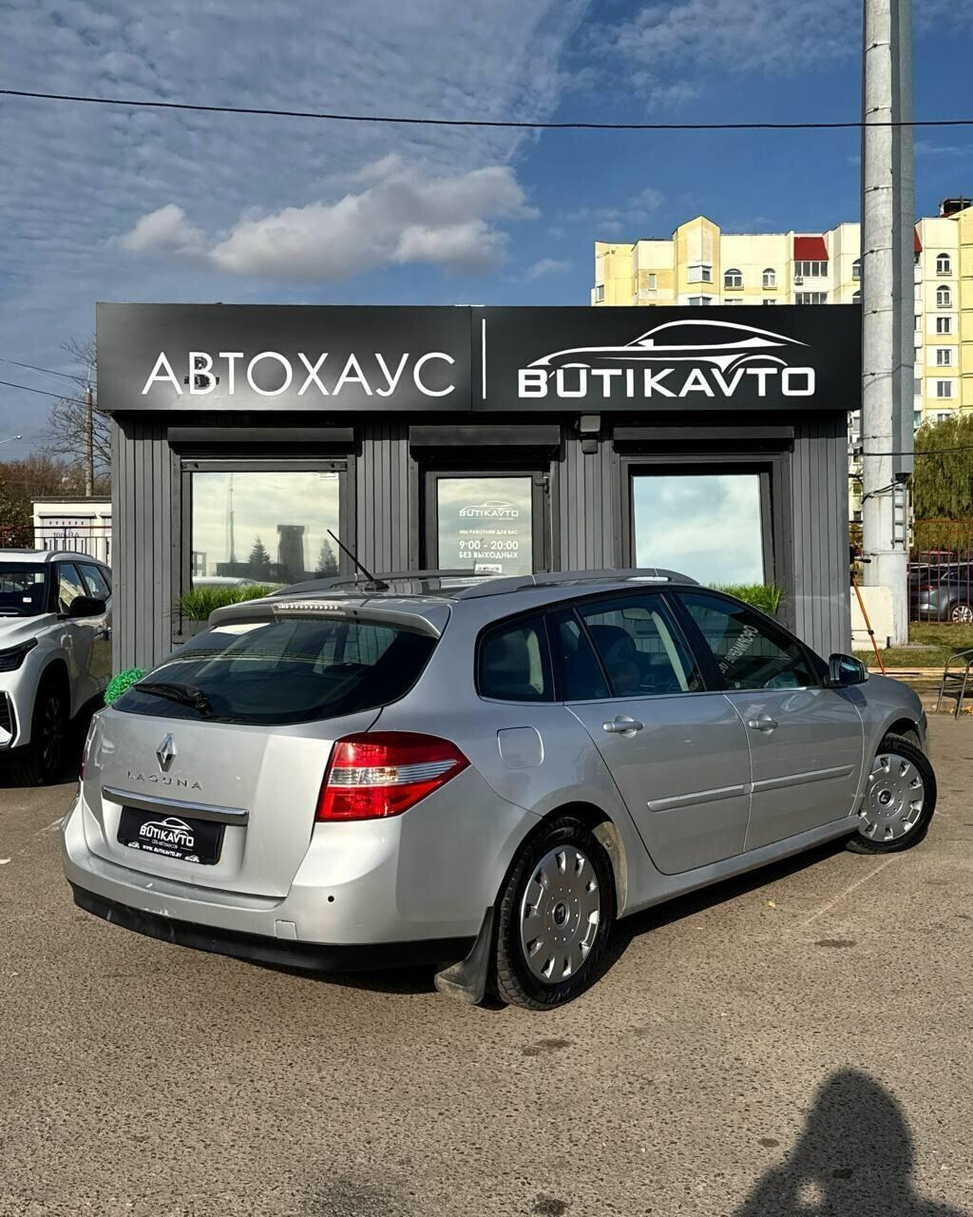Laguna_2007-2011: (62, 569, 935, 1010)
